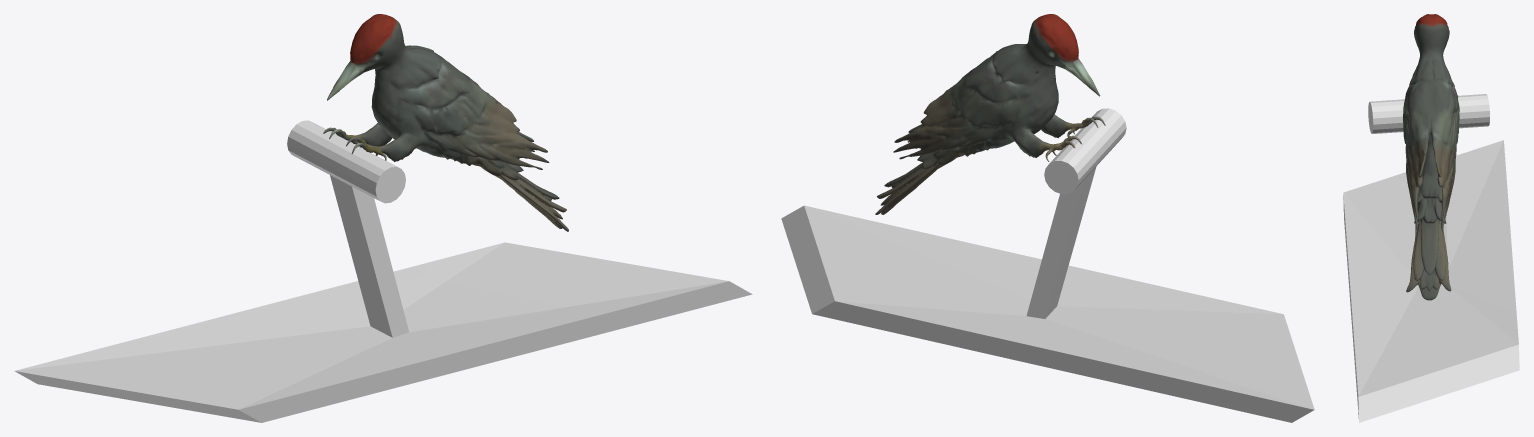
File: picchio.fbx
3 views of the same model, side by side, from view 1: azimuth 30°, elevation 25°; view 2: azimuth 150°, elevation 25°; view 3: azimuth 270°, elevation 25° (orthographic). The views are drawn at different scales.
Visible parts, largest first — view 1: Cilindro, Woodpecker; view 2: Cilindro, Woodpecker; view 3: Cilindro, Woodpecker.
Part boxes in pixels (left/top/right/bottom): Cilindro: left=14, top=120, right=752, bottom=422; Woodpecker: left=323, top=14, right=568, bottom=231; Cilindro: left=781, top=108, right=1314, bottom=422; Woodpecker: left=875, top=14, right=1105, bottom=214; Cilindro: left=1343, top=94, right=1519, bottom=422; Woodpecker: left=1403, top=14, right=1459, bottom=300.
Size of the model in its own units: 380 by 181 by 106.
